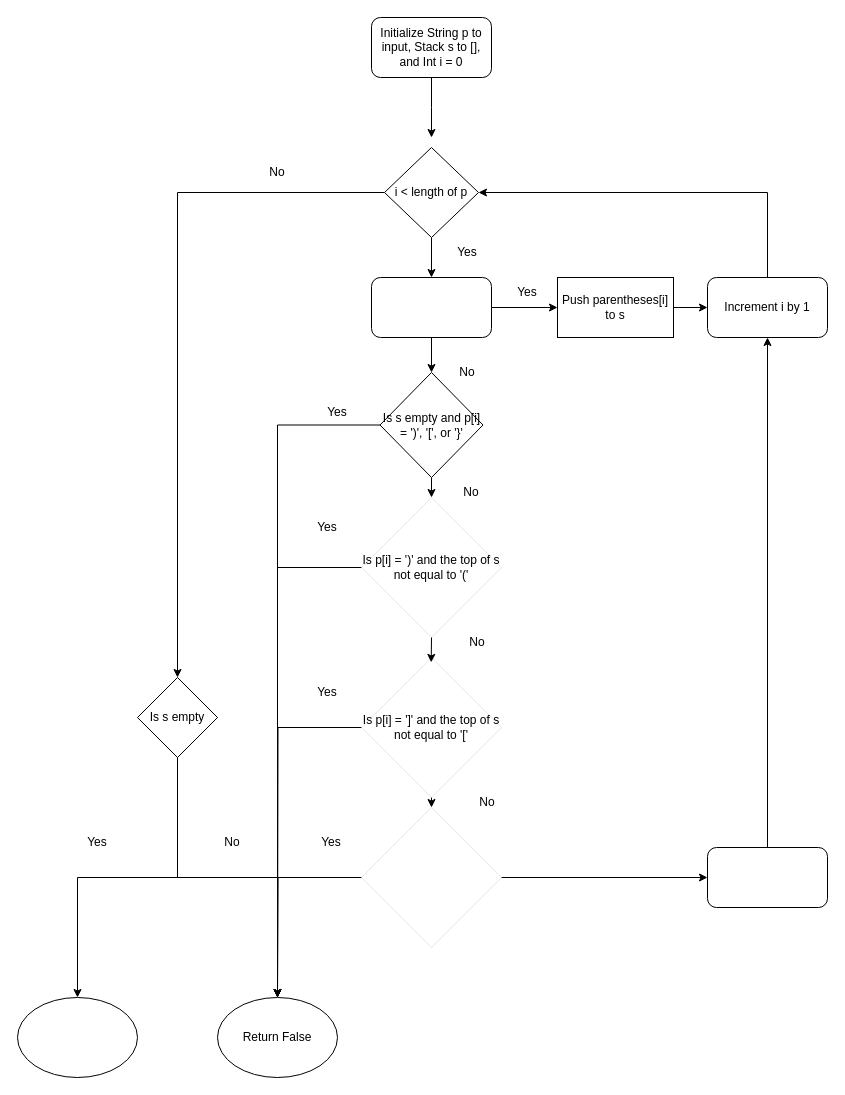
The diagram is 845 pixels wide and 1095 high, and some of its shapes have lost their labels. Here are the shapes that lost their labels. From the top down, the centre of each, then its label:
point (431, 307): Is p[i] equal to '(', '[', or '{'
point (431, 877): Is p[i] = ']' and the top of s not equal to '{'
point (767, 877): Pop the top element of S
point (77, 1037): Return True
